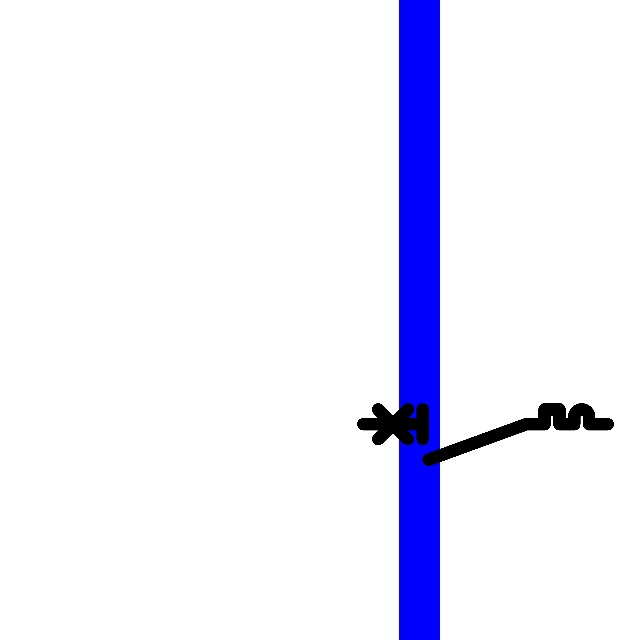interruptor_termomagnetico: (357, 403, 614, 465)
